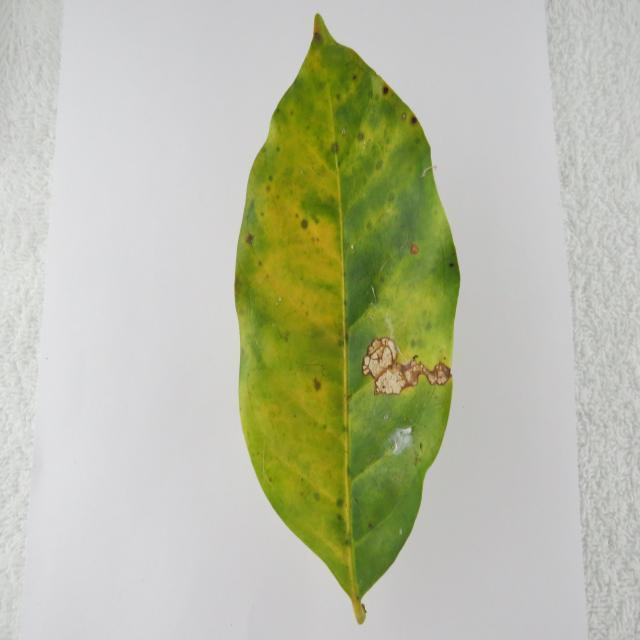DeficienciaNutricional-Nitrogeno: (235, 15, 460, 623)
